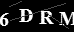6: (1, 12, 9, 27)
D: (18, 8, 33, 23)
M: (58, 11, 74, 26)
R: (39, 10, 54, 25)
